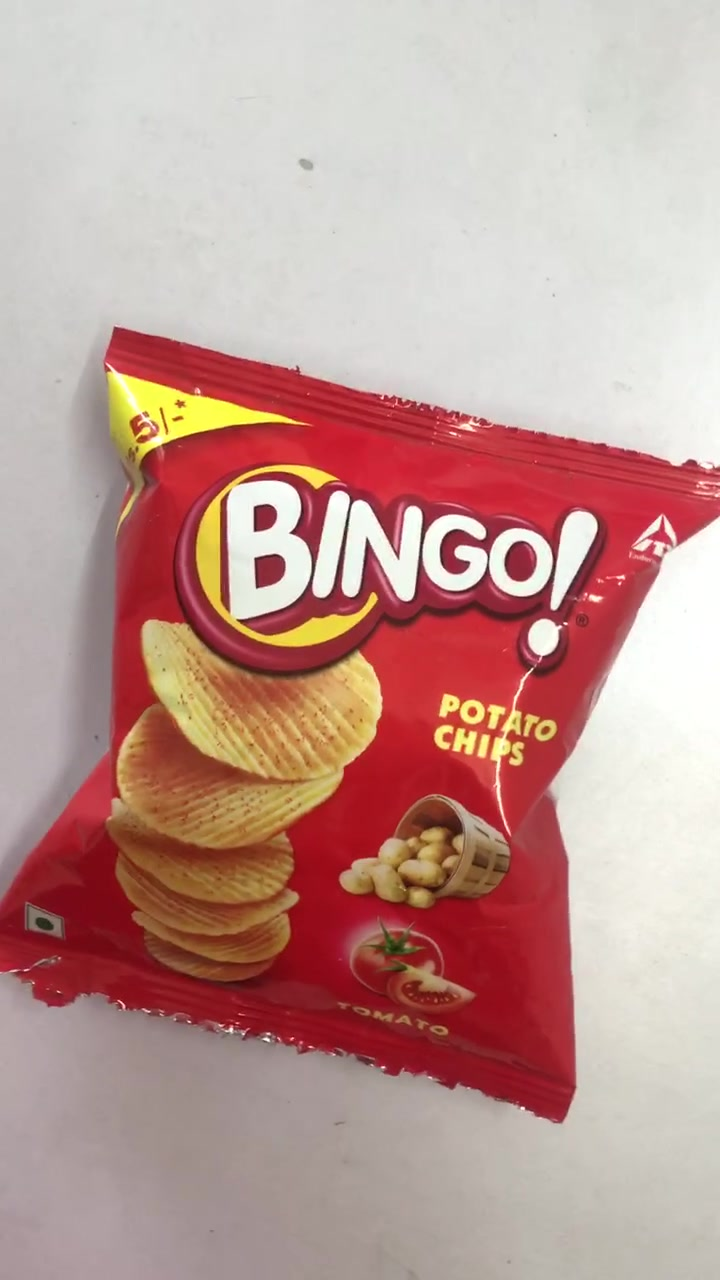Bingo: (10, 331, 720, 1106)
